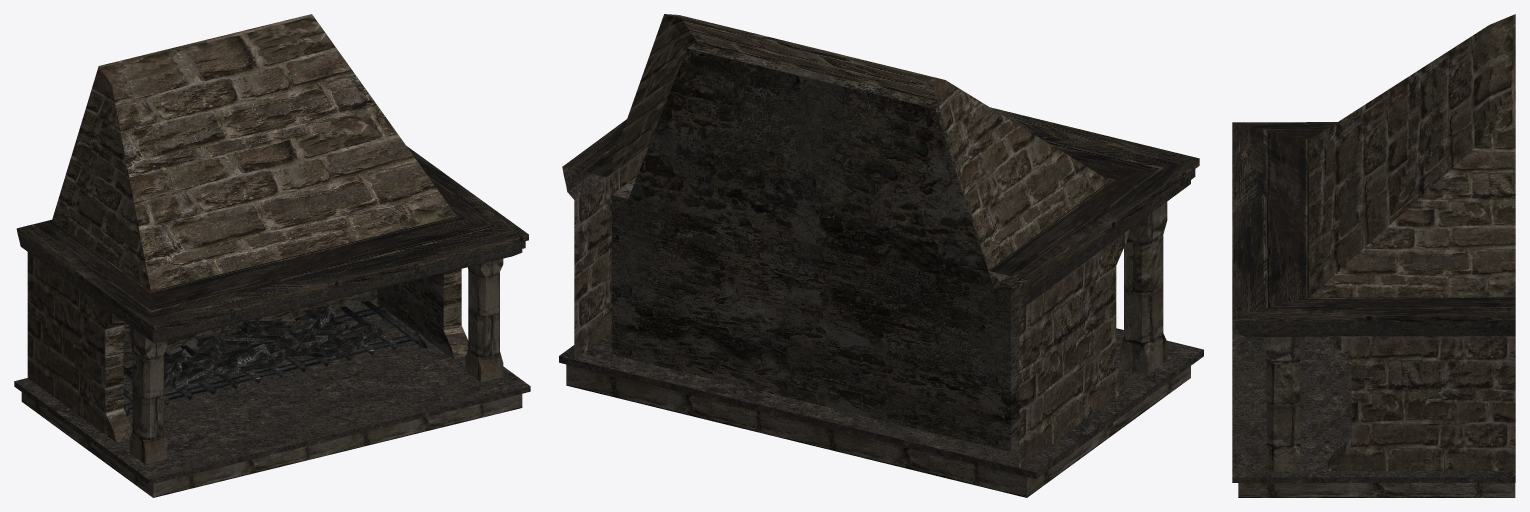
The model's file is G3_Object_Fireplace_Large_01.obj.
3 views of the same model, side by side, from view 1: azimuth 30°, elevation 25°; view 2: azimuth 150°, elevation 25°; view 3: azimuth 270°, elevation 25° (orthographic). The views are drawn at different scales.
Visible parts, largest first — view 1: G3_Object_Fireplace_Large_01_0, G3_Object_Fireplace_Large_01_4, G3_Object_Fireplace_Large_01_6, G3_Object_Fireplace_Large_01_1, G3_Object_Fireplace_Large_01_3, G3_Object_Fireplace_Large_01_2, G3_Object_Fireplace_Large_01_5; view 2: G3_Object_Fireplace_Large_01_2, G3_Object_Fireplace_Large_01_0, G3_Object_Fireplace_Large_01_1, G3_Object_Fireplace_Large_01_4, G3_Object_Fireplace_Large_01_6; view 3: G3_Object_Fireplace_Large_01_0, G3_Object_Fireplace_Large_01_6, G3_Object_Fireplace_Large_01_4, G3_Object_Fireplace_Large_01_1.
Boxes of the visible parts, x1,y1,x2,y2 form: G3_Object_Fireplace_Large_01_0: (27, 14, 468, 442); G3_Object_Fireplace_Large_01_4: (14, 234, 530, 484); G3_Object_Fireplace_Large_01_6: (16, 146, 528, 332); G3_Object_Fireplace_Large_01_1: (21, 258, 522, 497); G3_Object_Fireplace_Large_01_3: (164, 305, 385, 391); G3_Object_Fireplace_Large_01_2: (123, 273, 454, 365); G3_Object_Fireplace_Large_01_5: (123, 300, 427, 417); G3_Object_Fireplace_Large_01_2: (611, 43, 1032, 451); G3_Object_Fireplace_Large_01_0: (574, 14, 1129, 467); G3_Object_Fireplace_Large_01_1: (566, 202, 1190, 497); G3_Object_Fireplace_Large_01_4: (559, 169, 1203, 478); G3_Object_Fireplace_Large_01_6: (562, 107, 1199, 287); G3_Object_Fireplace_Large_01_0: (1309, 14, 1515, 470); G3_Object_Fireplace_Large_01_6: (1232, 122, 1515, 322); G3_Object_Fireplace_Large_01_4: (1232, 321, 1515, 482); G3_Object_Fireplace_Large_01_1: (1238, 337, 1515, 497).
Bounding box in the file's own units: 5.09 × 4.03 × 3.1.
